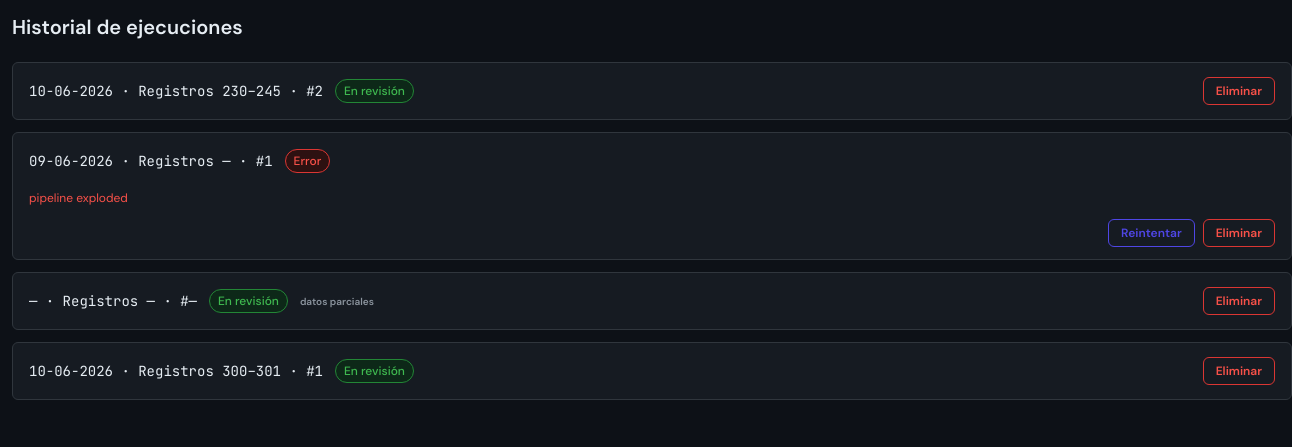
Scenario: RunHistoryPage (RH-010 / RH-007 / RH-009) › retry 409 (another run processing) is surfaced honestly, never silent
Click the button with class "run-history-page__retry-btn".
click(1151, 233)  # box [1108, 219, 1195, 247]
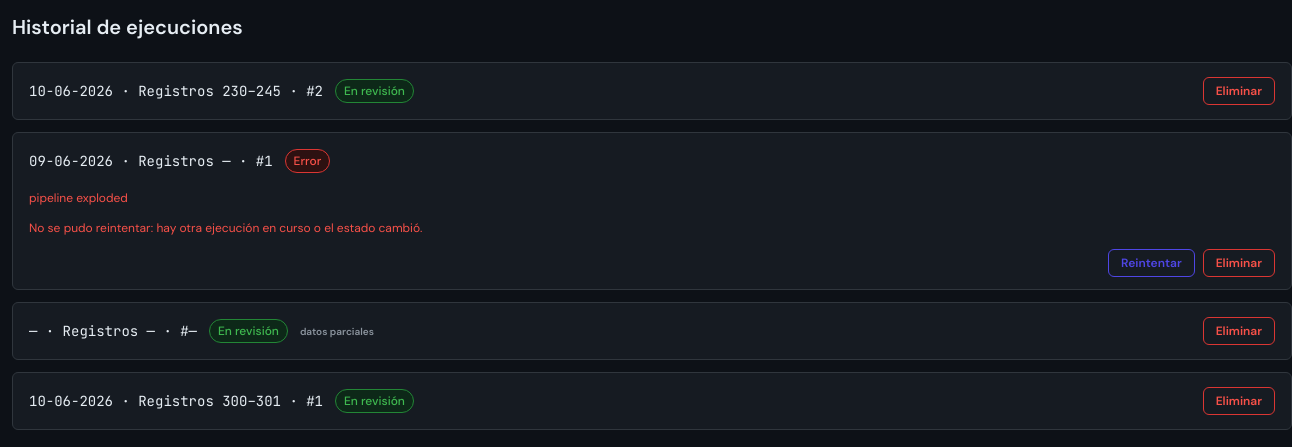
Result: the message "No se pudo reintentar: hay otra ejecución en curso o el estado cambió." is shown at [29, 220, 422, 236]
